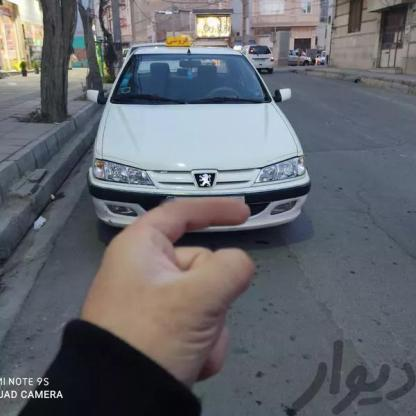Car: (66, 39, 308, 238), (232, 37, 284, 82), (287, 50, 313, 66)
